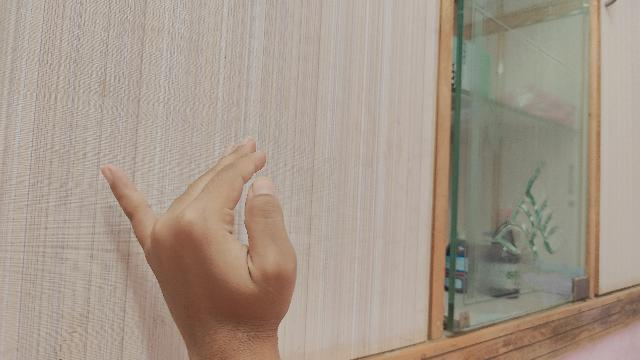Hamsapaksha: (100, 139, 298, 360)
